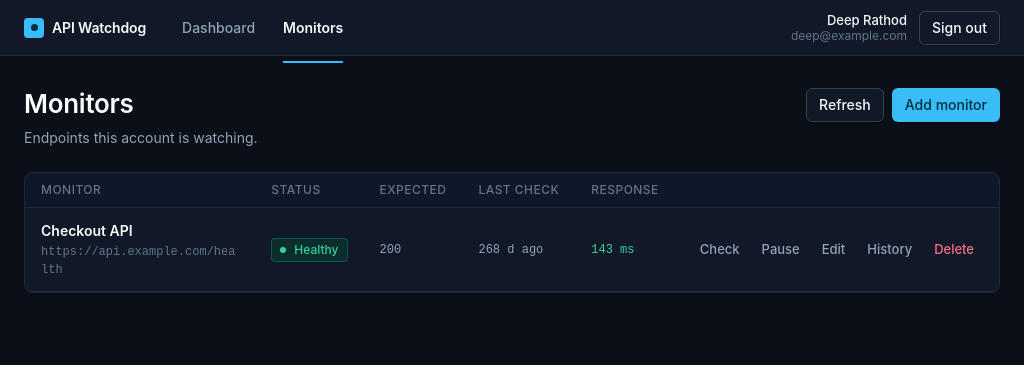
Test: delete › can be cancelled
The image size is (1024, 365).
Expected: the text "Checkout API" is shown, [41,222,133,239]
Click the button with aria-label "Delete Checkout API". click: (954, 250)
box: [925,236,983,264]
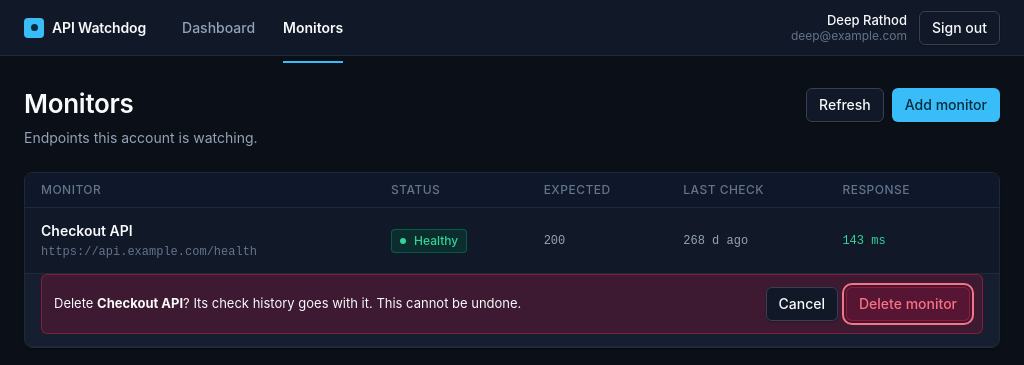
Click the button "Cancel". click: (802, 304)
box: [766,287,838,321]
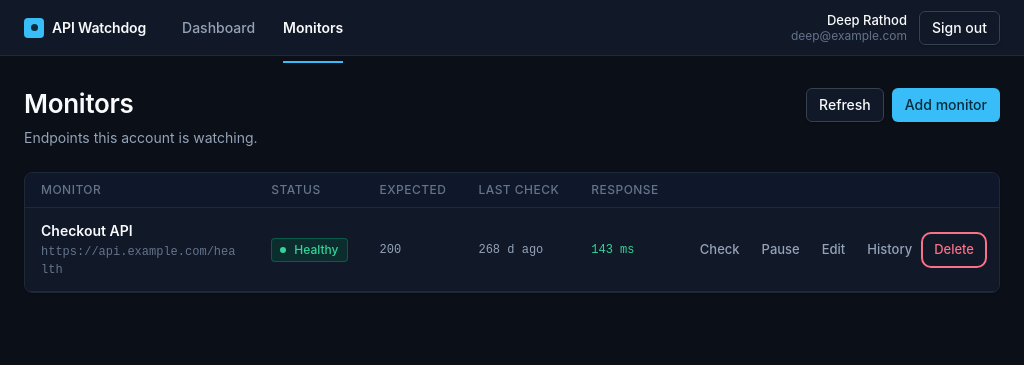
Expected: the button with aria-label "Check Checkout API now" is shown, [691,236,749,264]
Expected: the text "cannot be undone" is gone
